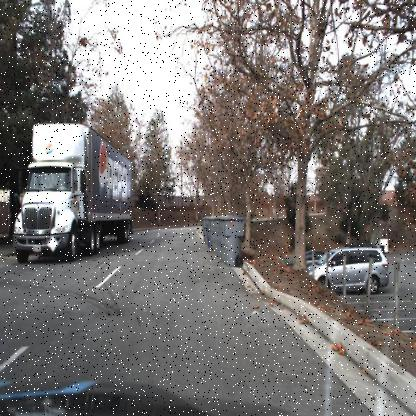car: (304, 244, 389, 300), (283, 247, 327, 274)
truck: (13, 120, 133, 266)
